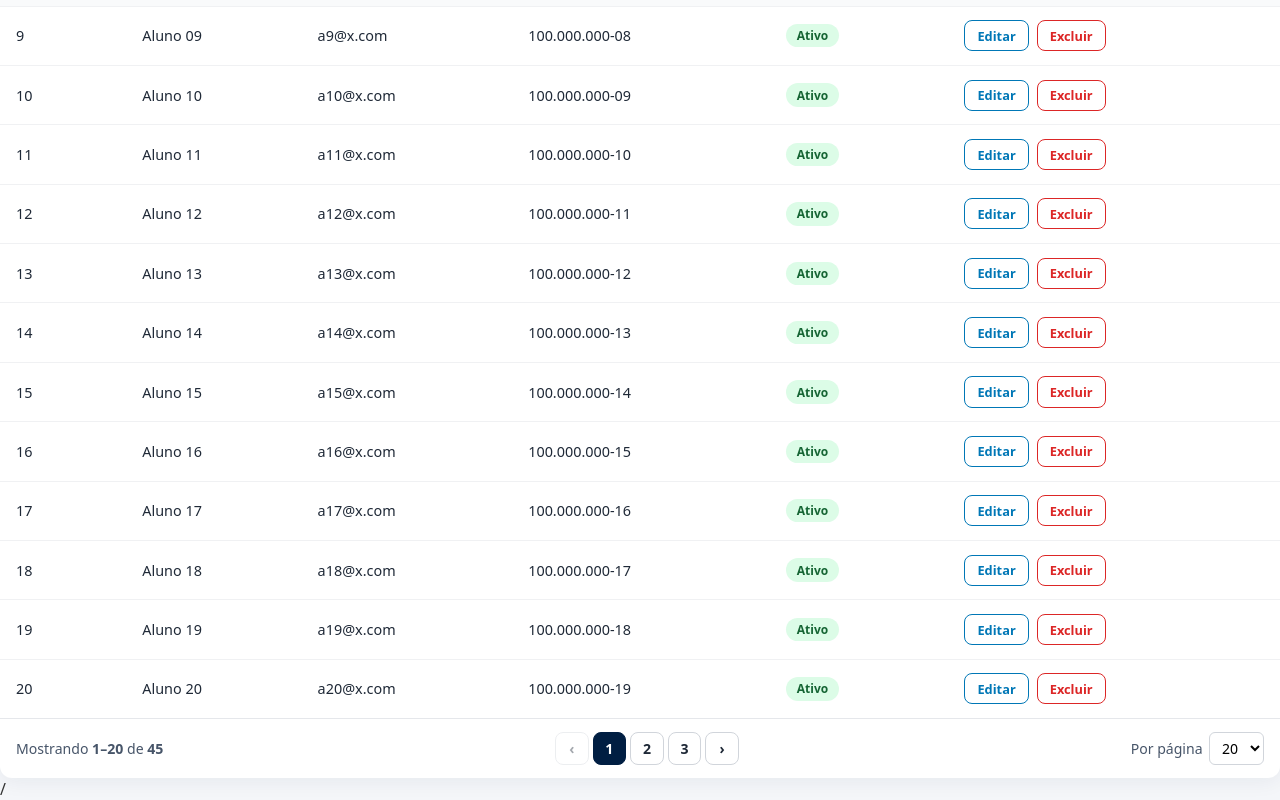
Test: lista grande aparece em páginas de 20
(page scrolled)
expect the navigation bar named "Páginas de alunos" shows "Mostrando 1–20 de 45": met, box 0,718 -> 1279,778
expect the button named "Página anterior" is disabled: met, box 555,732 -> 589,766
What coordinates should you click on to do the following:
click the button "›"
I would click on:
 (722, 749)
Its box is 705,732 -> 739,766.
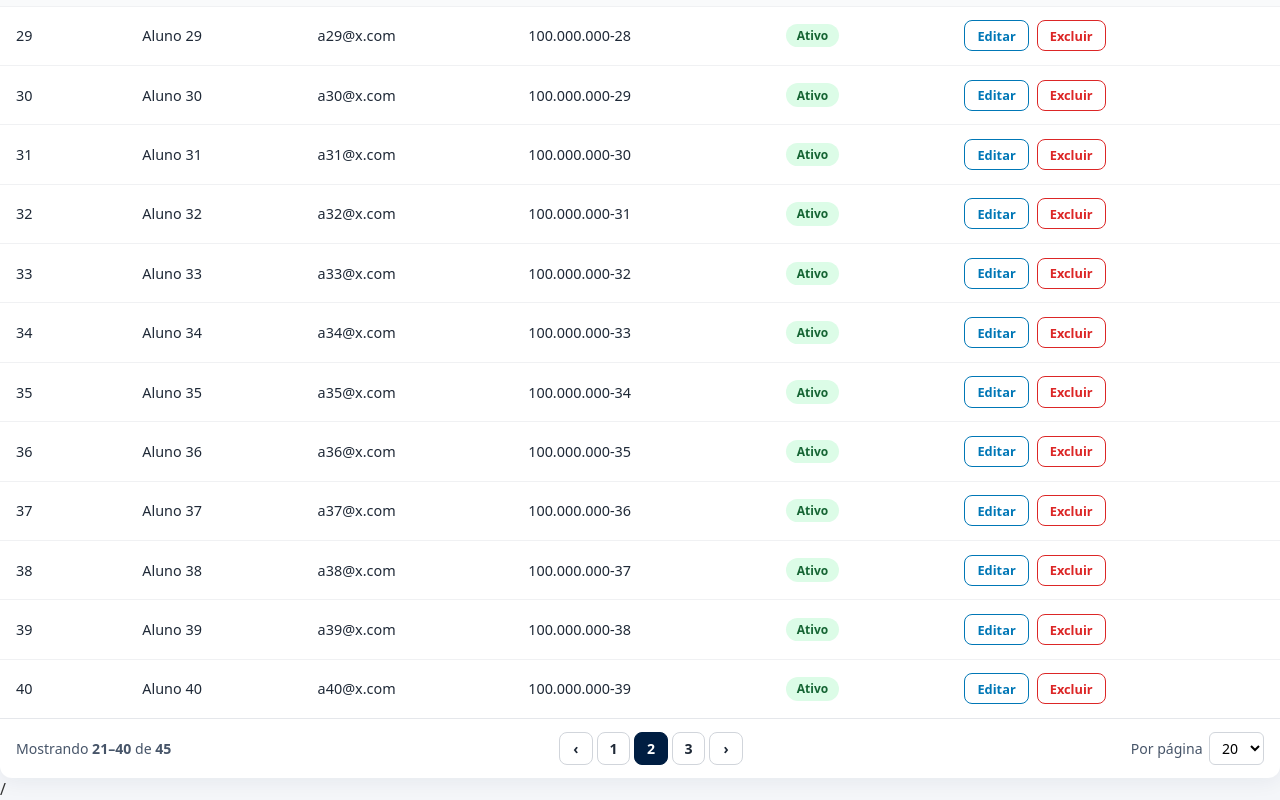
expect the navigation bar named "Páginas de alunos" shows "Mostrando 21–40 de 45": met, box 0,718 -> 1279,778
What coordinates should you click on to do the following:
click the button named "Página 3"
I would click on:
 (689, 749)
Its box is 672,732 -> 705,766.
(page scrolled)
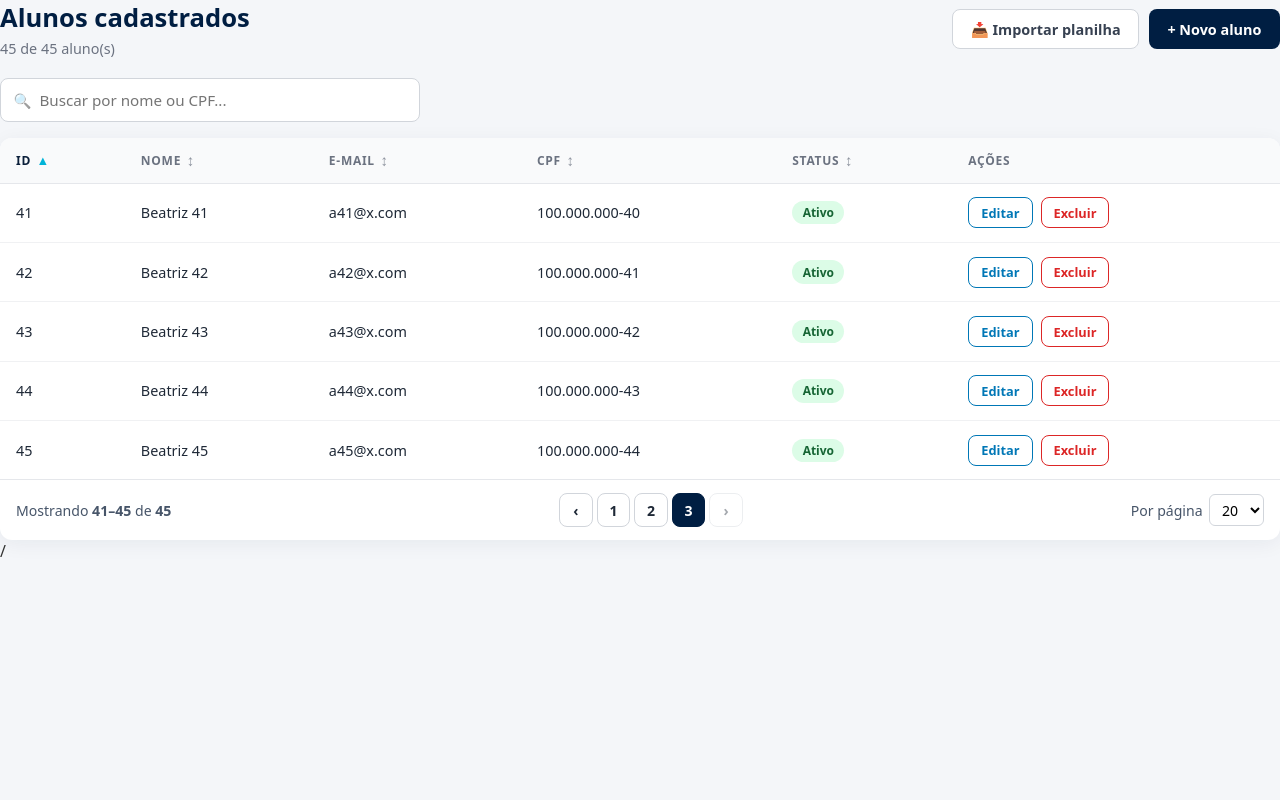
expect the button named "Próxima página" is disabled: met, box 709,493 -> 743,527
expect the text "Beatriz 45" is shown: met, box 125,421 -> 313,479
What coordinates should you click on to do the following:
click the button named "Página anterior"
I would click on:
 (576, 510)
Its box is 559,493 -> 593,527.
(page scrolled)
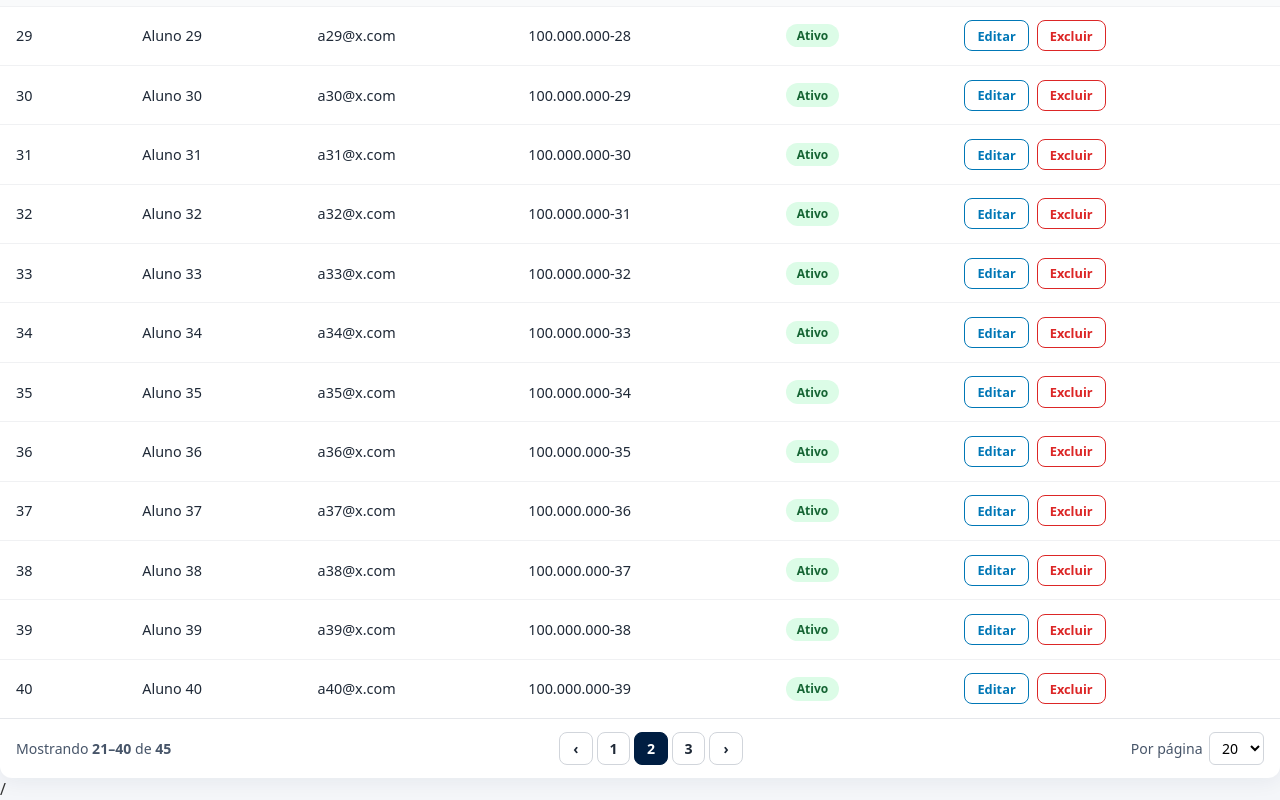
expect the navigation bar named "Páginas de alunos" shows "Mostrando 21–40 de 45": met, box 0,718 -> 1279,778
